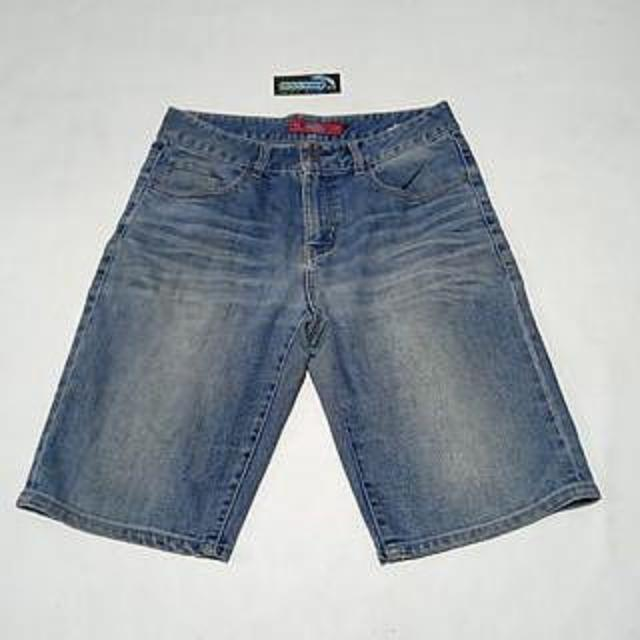SHORT: (11, 93, 614, 571)
